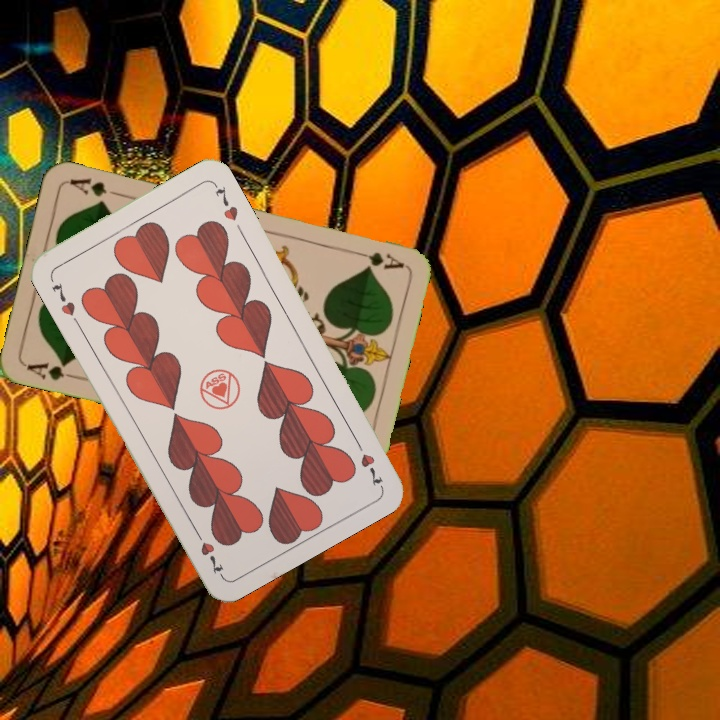GA: (22, 357, 81, 383), (348, 246, 407, 272)
H7: (350, 435, 386, 489), (47, 278, 78, 319)
